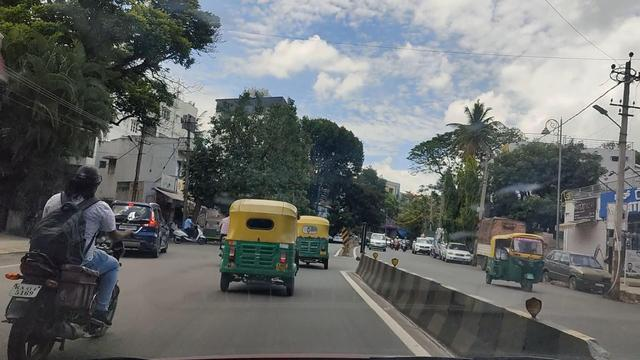LMV: (28, 175, 122, 346), (228, 190, 294, 299), (112, 197, 168, 255), (293, 222, 335, 263)
